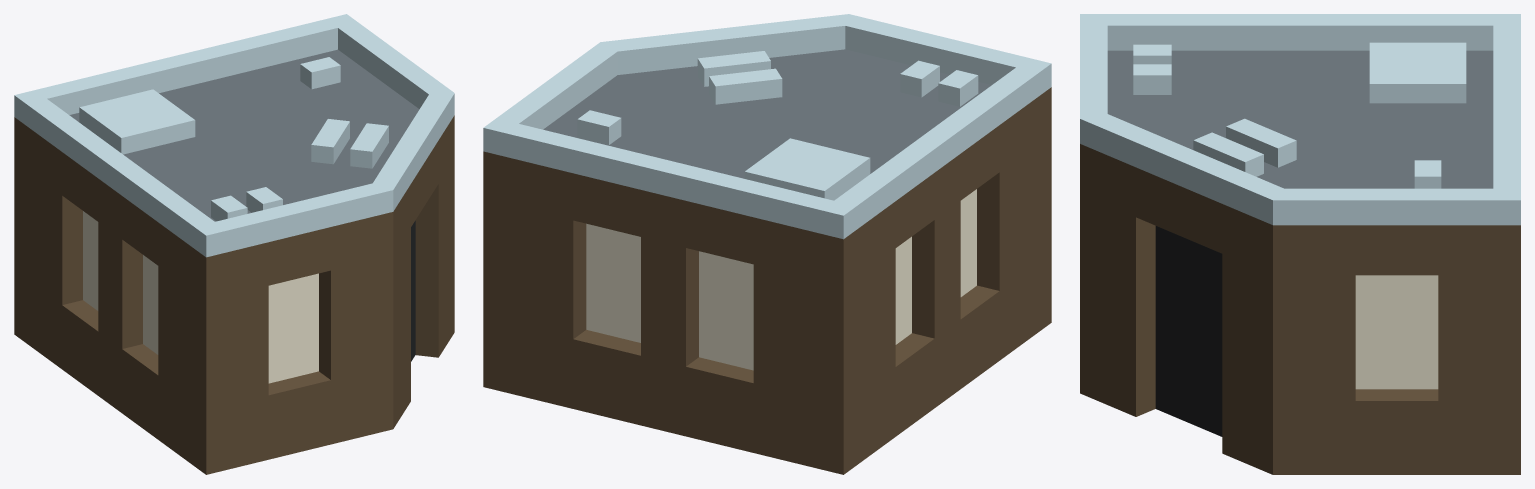
File: Building_10_Extra (Brown).obj
3 views of the same model, side by side, from view 1: azimuth 30°, elevation 25°; view 2: azimuth 150°, elevation 25°; view 3: azimuth 270°, elevation 25° (orthographic). The views are drawn at different scales.
Visible parts, largest first — view 1: Building_10_Extra_(Brown); view 2: Building_10_Extra_(Brown); view 3: Building_10_Extra_(Brown).
Boxes of the visible parts, box(x1,y1,x2,y2) form: Building_10_Extra_(Brown): box(14, 14, 454, 474); Building_10_Extra_(Brown): box(483, 14, 1051, 474); Building_10_Extra_(Brown): box(1080, 14, 1520, 474).
Bounding box in the file's own units: 1.6 × 1.1 × 1.6.
